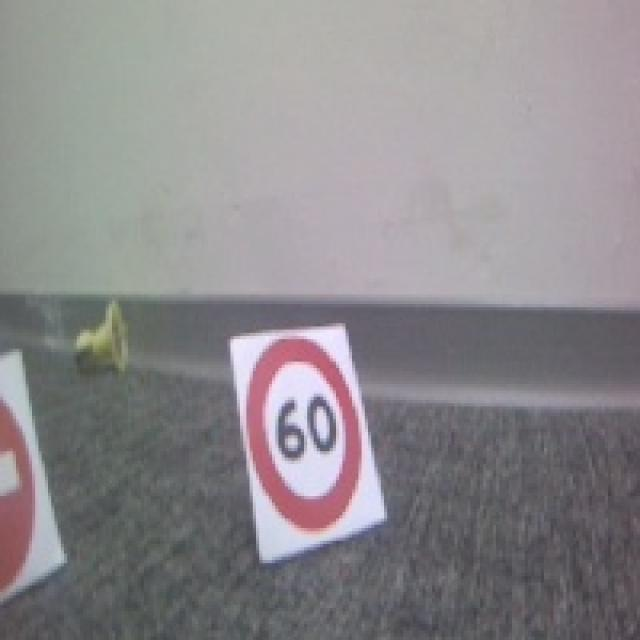DoNotEnterSign: (0, 352, 64, 630)
